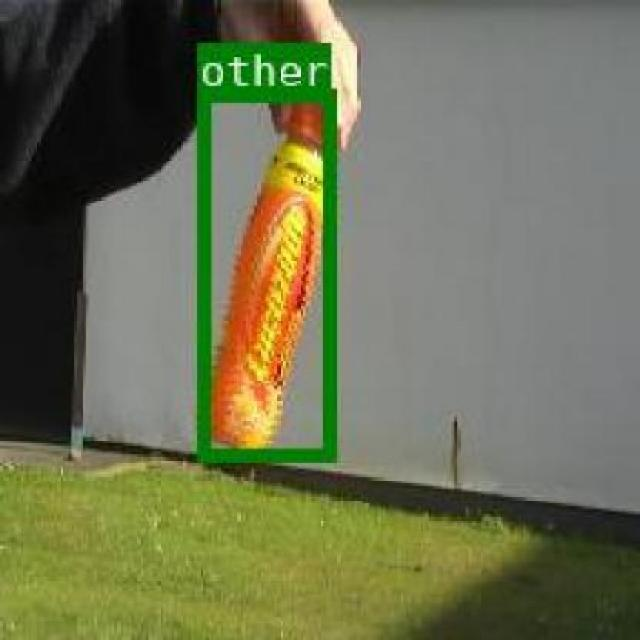other: (194, 87, 334, 460)
